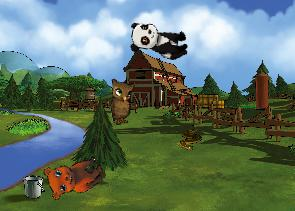bear: (38, 142, 108, 207)
owl: (106, 75, 141, 126)
panda: (127, 20, 191, 61)
